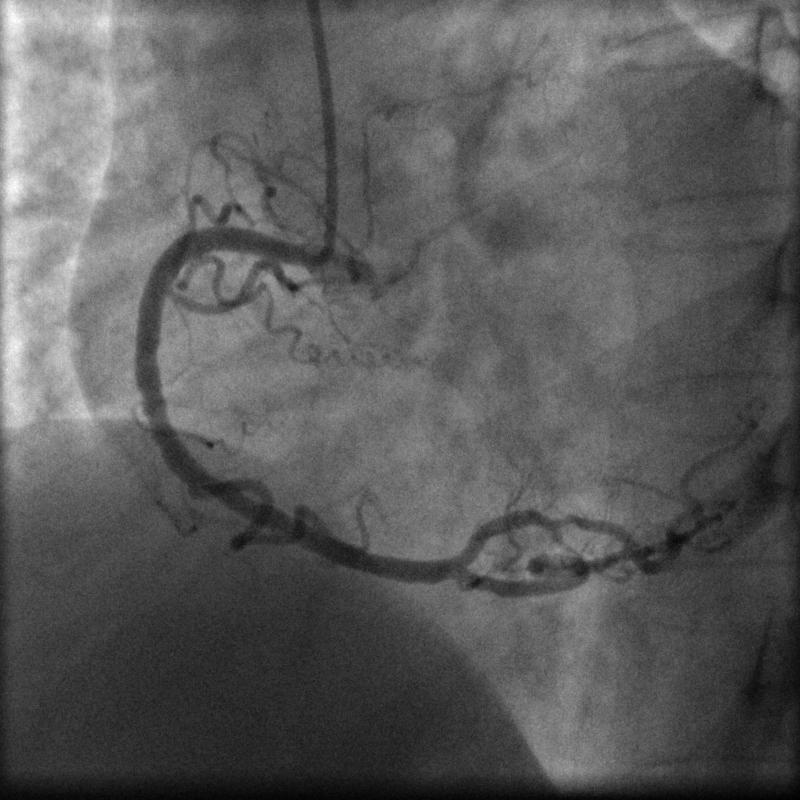Stenosis: (529, 500, 588, 535)
